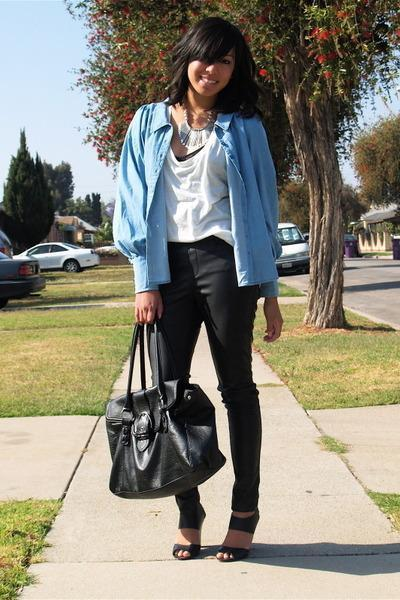bag: (103, 311, 225, 501)
jacket: (108, 98, 293, 311)
pants: (150, 235, 261, 528)
shirt: (141, 120, 238, 251)
shoe: (172, 505, 259, 562)
